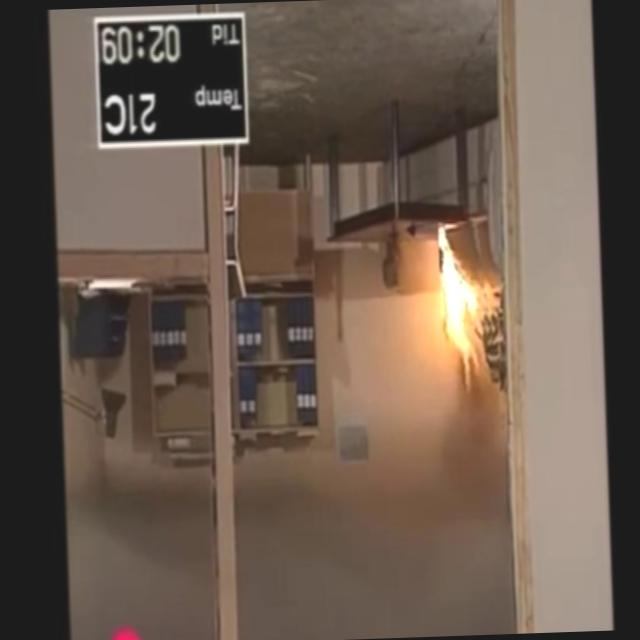fire: (421, 247, 494, 376)
